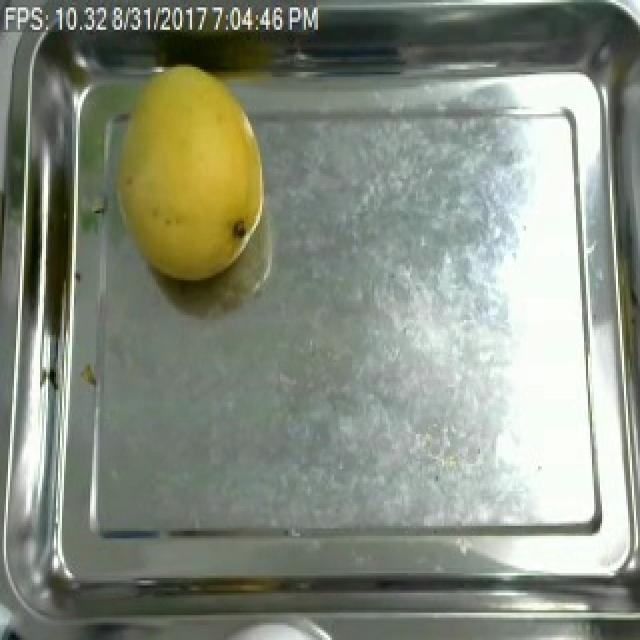fruit: (98, 57, 276, 293)
